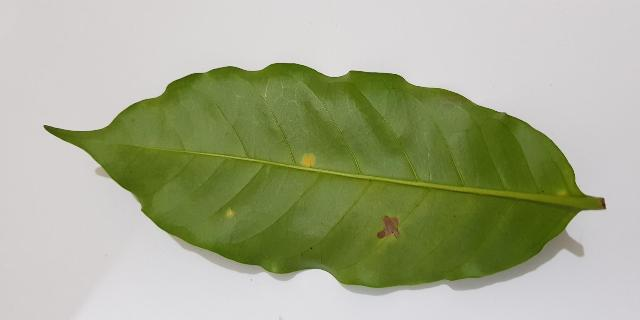cercospora: (377, 216, 399, 239), (302, 154, 316, 167), (226, 209, 234, 218), (557, 190, 566, 195)
